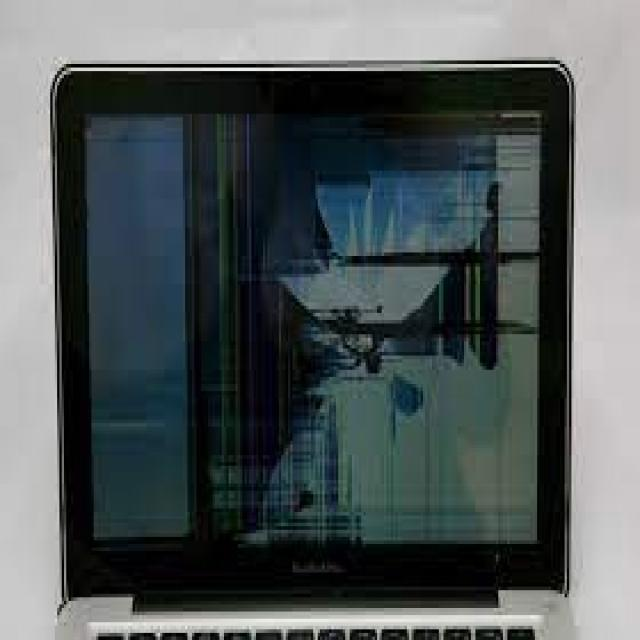Screen cracks: (178, 110, 542, 555)
